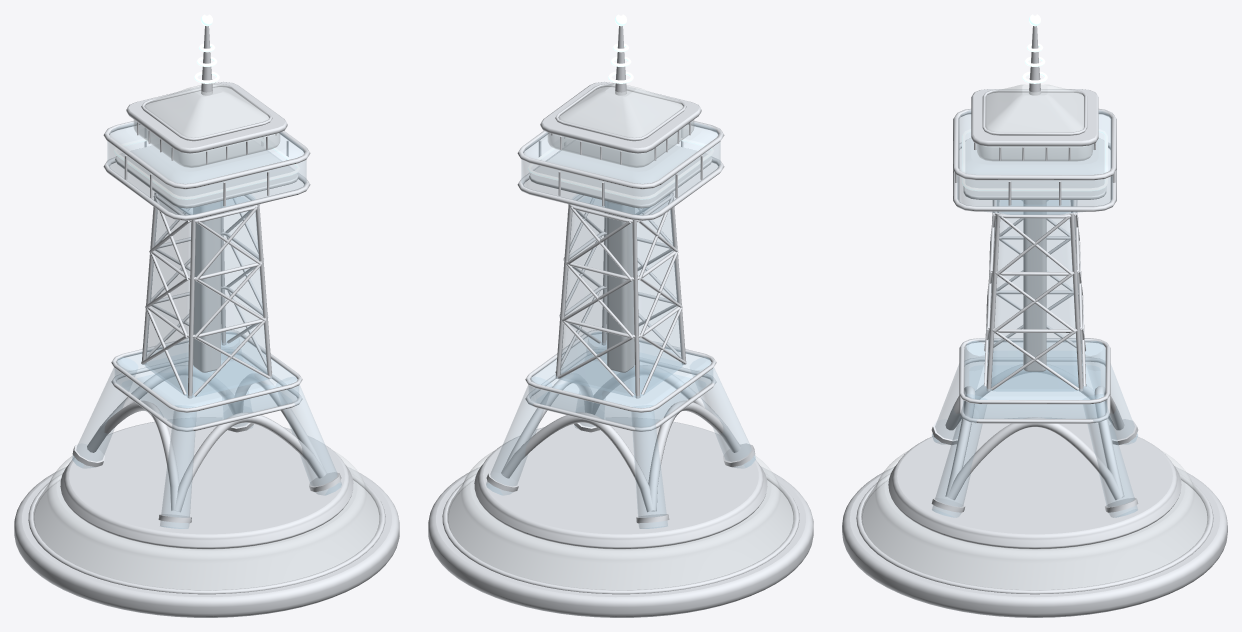
3 views of the same model, side by side, from view 1: azimuth 30°, elevation 25°; view 2: azimuth 150°, elevation 25°; view 3: azimuth 270°, elevation 25° (orthographic).
Parts seen in each view (by area): view 1: Tsutenkaku_ChessPiece; view 2: Tsutenkaku_ChessPiece; view 3: Tsutenkaku_ChessPiece.
Boxes of the visible parts, left/top/right/bottom form: Tsutenkaku_ChessPiece: left=14, top=14, right=399, bottom=617; Tsutenkaku_ChessPiece: left=428, top=14, right=813, bottom=617; Tsutenkaku_ChessPiece: left=842, top=14, right=1227, bottom=617.
Size of the model in its own units: 2 by 3 by 2.
